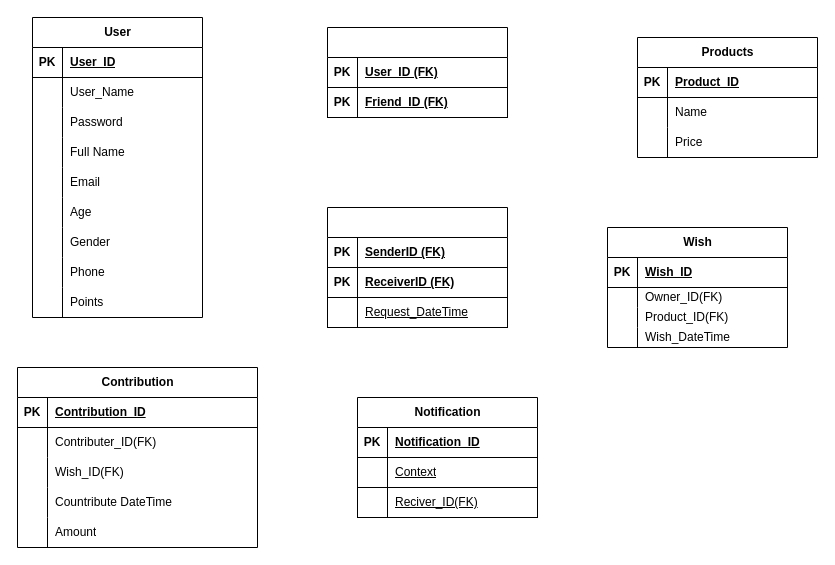
Some shapes in this 835 by 565 pixel diagram are drawn without their labels. Each missing label, with the box of its shape:
FriendRequest: (326, 206, 508, 328)
Friends (User-User): (326, 26, 508, 118)
